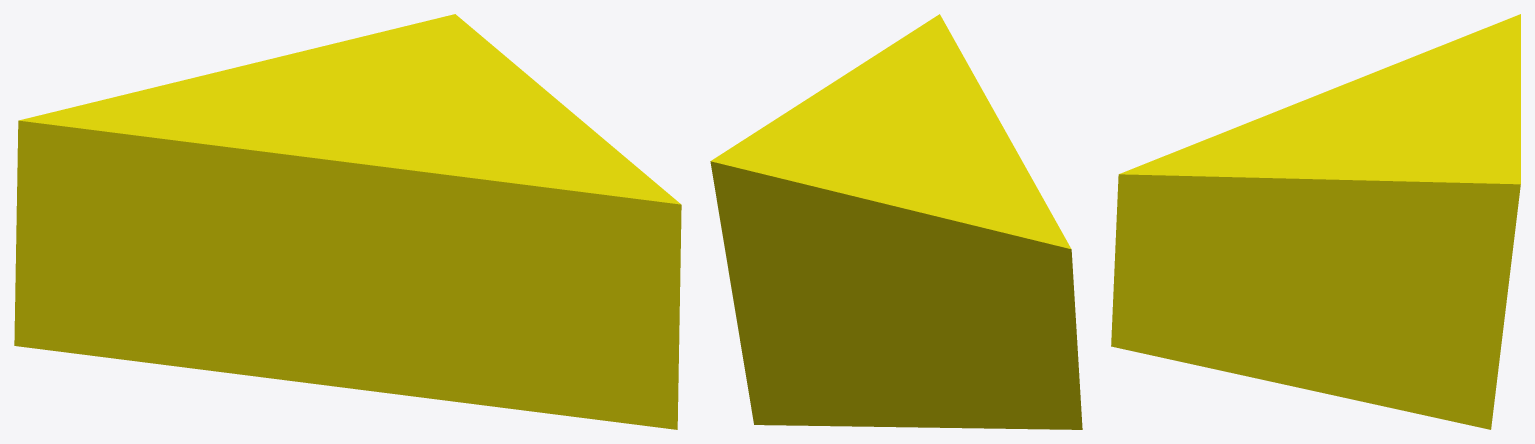
Rendered from corner_corner_90.fbx.
3 views of the same model, side by side, from view 1: azimuth 30°, elevation 25°; view 2: azimuth 150°, elevation 25°; view 3: azimuth 270°, elevation 25° (orthographic). The views are drawn at different scales.
Parts seen in each view (by area): view 1: Box001.001; view 2: Box001.001; view 3: Box001.001.
Part boxes in pixels (<box>): Box001.001: <box>14,14,681,429</box>; Box001.001: <box>710,14,1082,429</box>; Box001.001: <box>1111,14,1520,429</box>.
Size of the model in its own units: 126 by 87.73 by 126.
